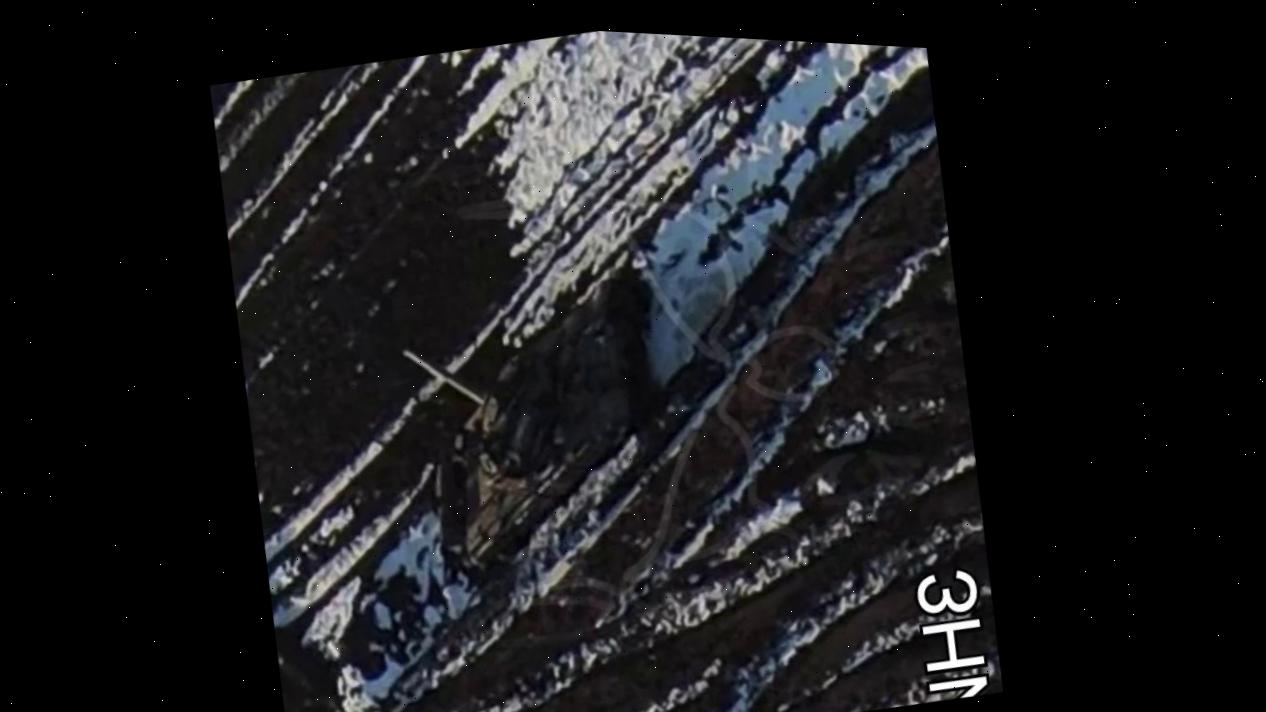tank: (379, 260, 689, 582)
